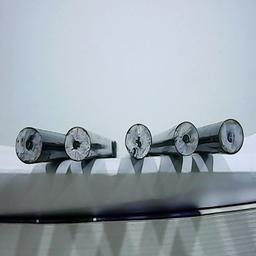pen: (15, 126, 44, 165), (124, 122, 153, 161), (172, 120, 201, 157), (217, 116, 244, 154), (64, 126, 92, 161)
